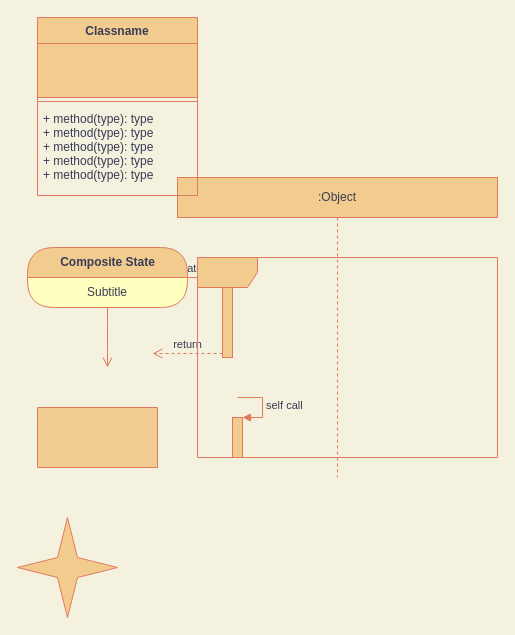
Some shapes in this 515 by 635 pixel diagram are drawn without their labels. The shapes that lost their labels are listed below. From the top down, each one's centre as x and y in pixels, then its label:
At point 117,70: "+ field: type".
At point 347,357: "frame".
